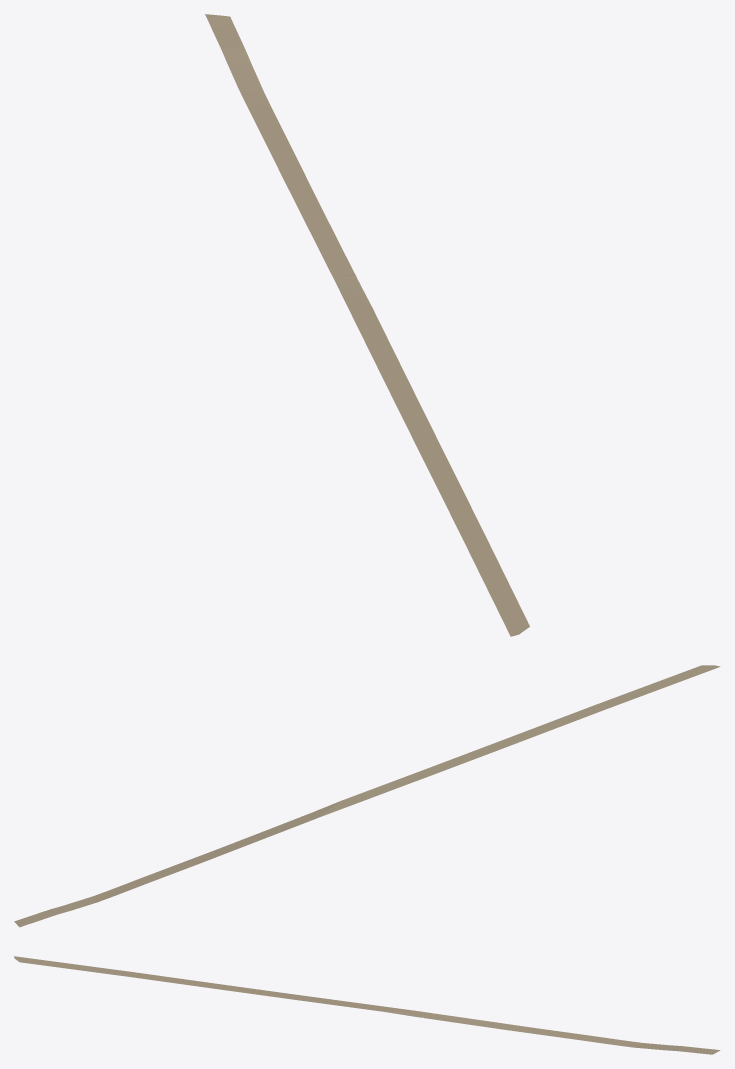
File: farm_19_26_track.glb
3 renders of one model, top to bottom at view 1: azimuth 30°, elevation 25°; view 2: azimuth 150°, elevation 25°; view 3: azimuth 270°, elevation 25°, orthographic. The views are drawn at different scales.
Parts seen in each view (by area): view 1: geometry_0; view 2: geometry_0; view 3: geometry_0.
Boxes of the visible parts, x1,y1,x2,y2 form: geometry_0: (205, 14, 529, 636); geometry_0: (14, 665, 720, 927); geometry_0: (14, 956, 720, 1054).
Size of the model in its own units: 65.98 by 1.27 by 193.
